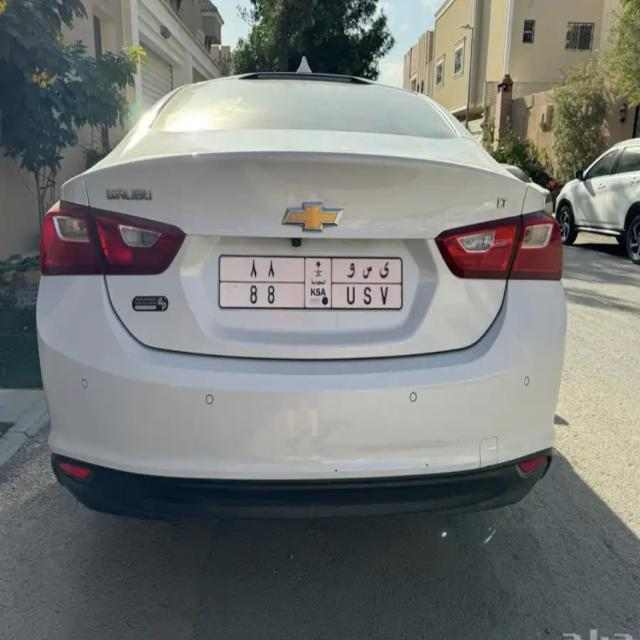license_plate: (220, 251, 406, 313)
